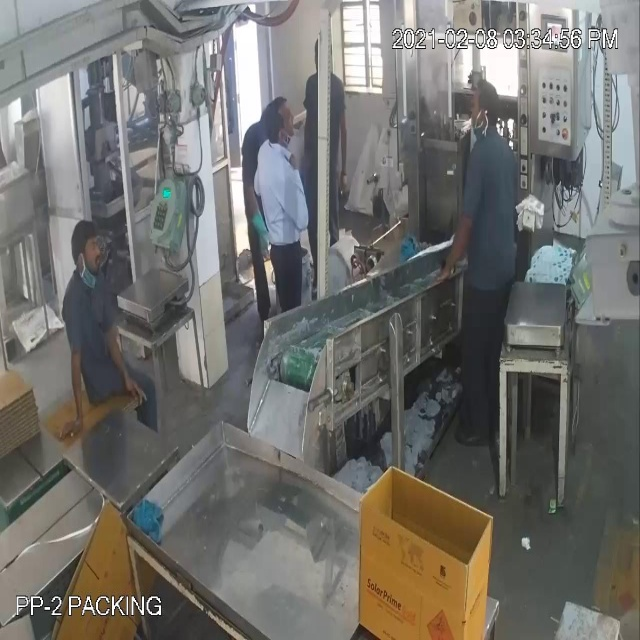Guantes: (244, 169, 276, 265)
Sin_guantes: (98, 304, 150, 415), (59, 323, 96, 451), (427, 209, 474, 286), (282, 167, 310, 244), (335, 101, 351, 198)
